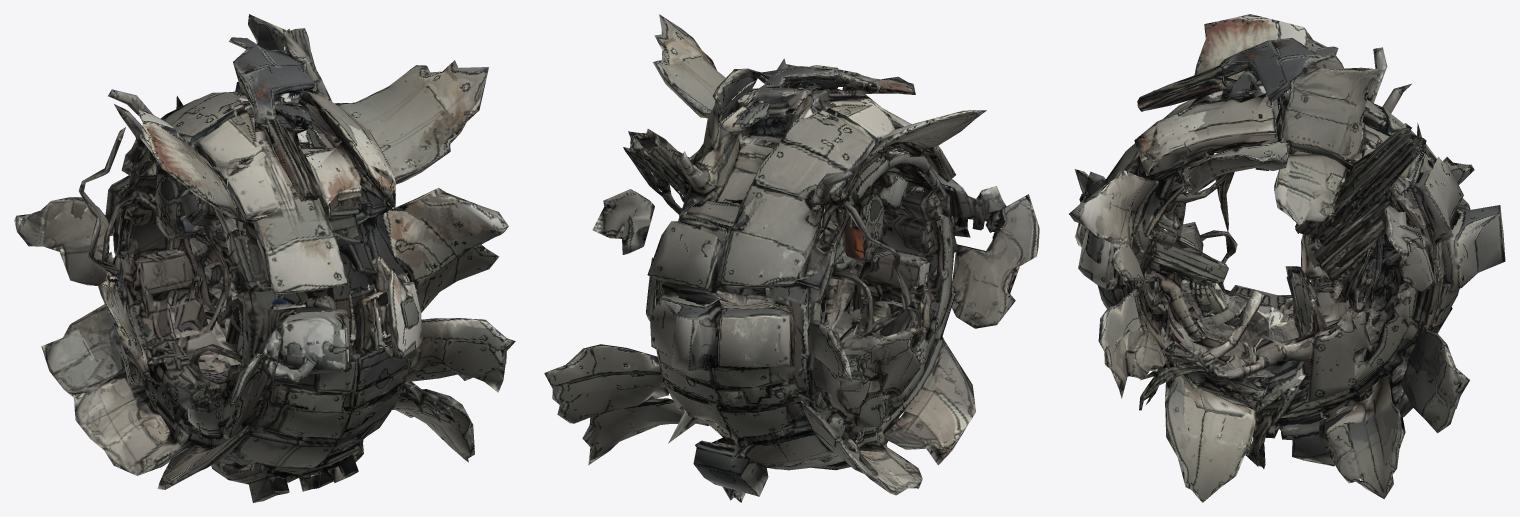
File: BreachWreck.fbx
3 renders of one model, left to right at view 1: azimuth 30°, elevation 25°; view 2: azimuth 150°, elevation 25°; view 3: azimuth 270°, elevation 25°, orthographic. The views are drawn at different scales.
Parts seen in each view (by area): view 1: texture_mapping; view 2: texture_mapping; view 3: texture_mapping.
Boxes of the visible parts, bbox=[...] form: texture_mapping: bbox=[14, 14, 515, 502]; texture_mapping: bbox=[544, 14, 1039, 502]; texture_mapping: bbox=[1069, 14, 1505, 502].
Bounding box in the file's own units: 0.7989 × 0.979 × 0.9935.
Materials: 1 (1 with a texture image).
